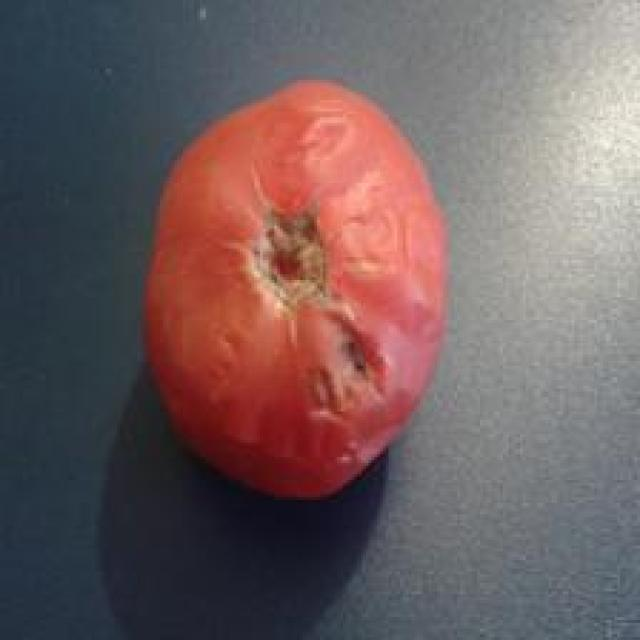overripe: (143, 79, 448, 496)
